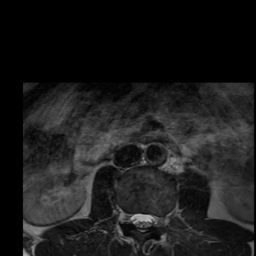CCS_normal: (138, 204, 146, 237)
LFS_normal: (154, 206, 162, 232)
LLS_normal: (146, 206, 154, 232)
RFS_normal: (122, 204, 130, 229)
RLS_normal: (130, 204, 138, 230)
